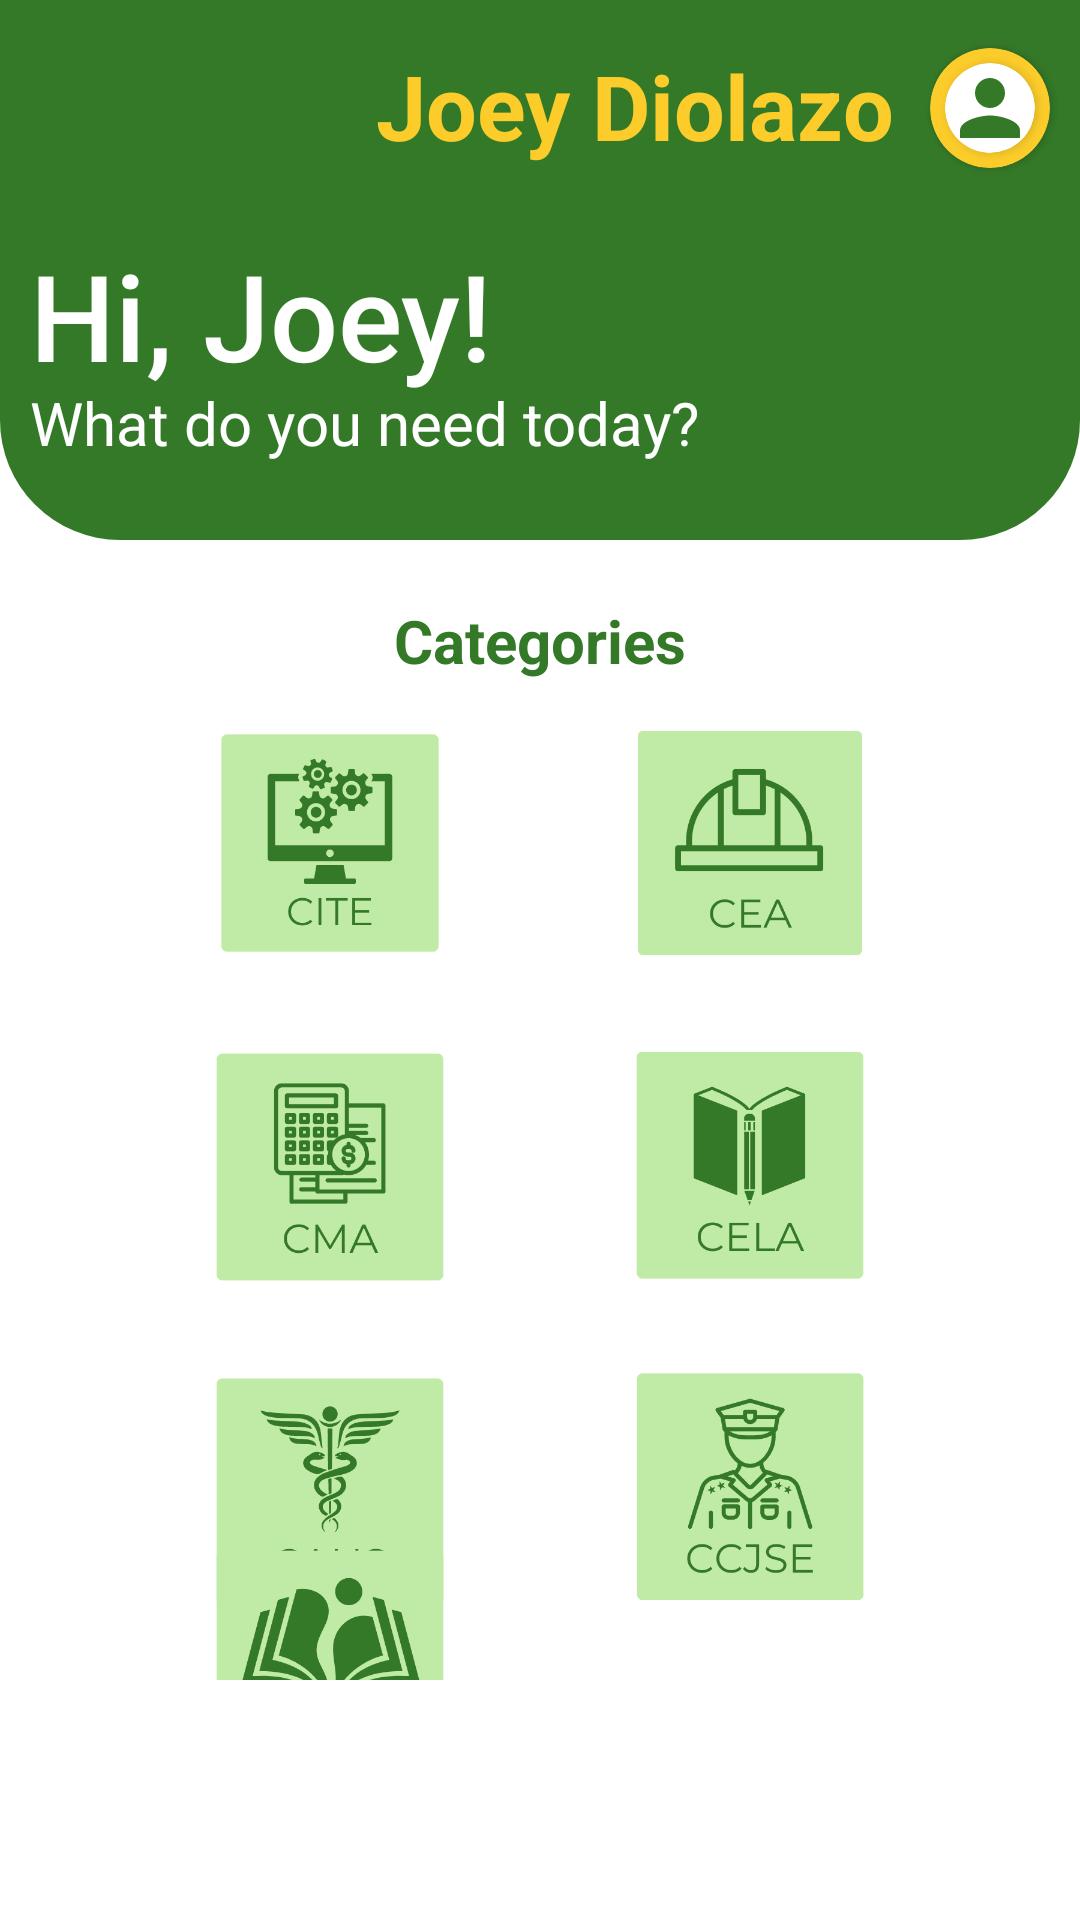

Named icons in this screenshot (1080px x 1920px) and their bounding boxes, (x1, y1, x2, y2):
person: (945, 63, 1035, 153)
